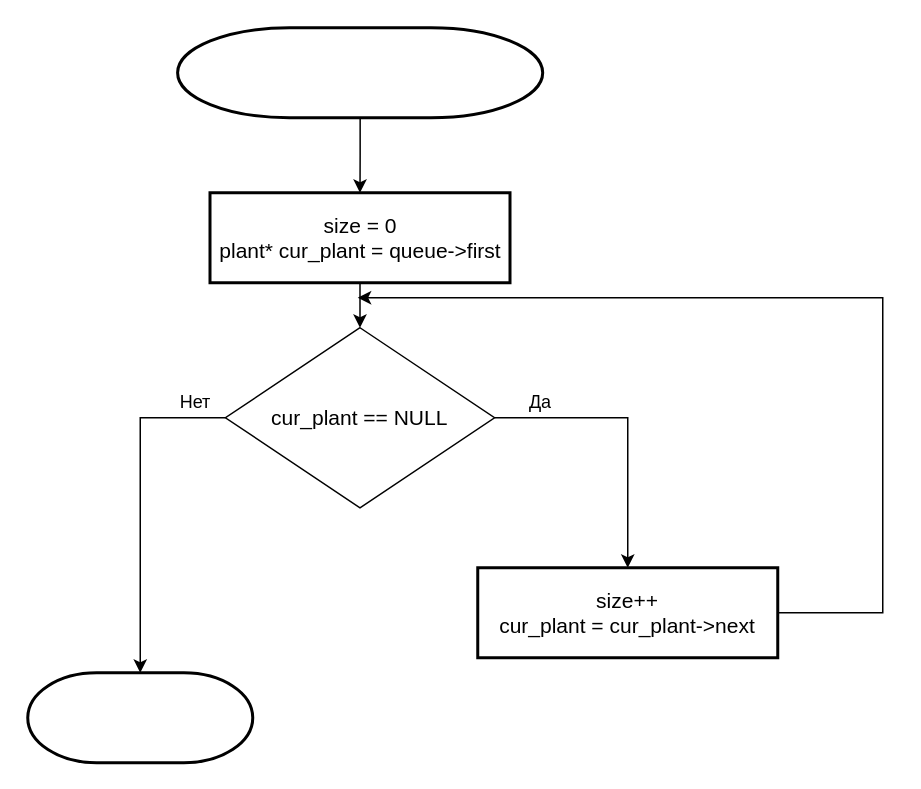
Some shapes in this 921 by 789 pixel diagram are drawn without their labels. Here are the shapes that lost their labels. From the top down, the box of each, then its label:
(175, 26, 543, 118): int get_queue_size(plant_queue* queue)
(26, 670, 254, 764): return size
